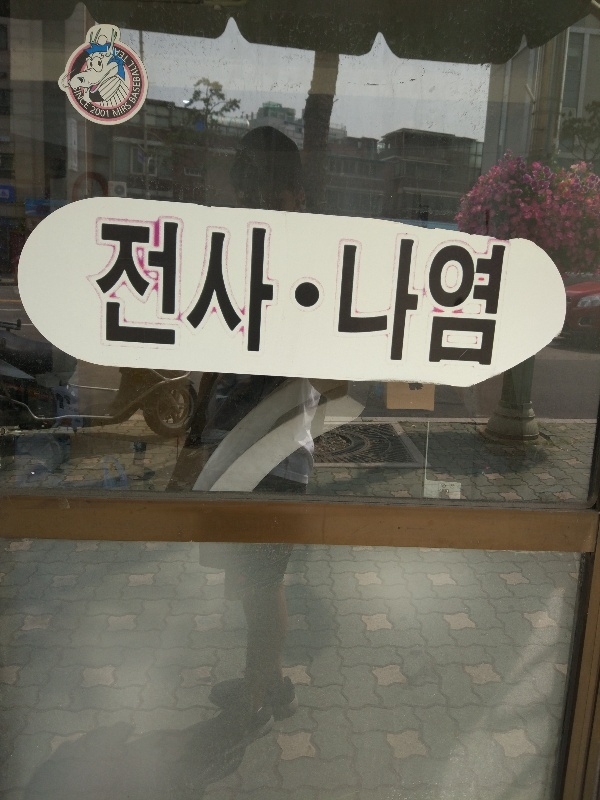text: (97, 208, 112, 385), (113, 208, 128, 385), (129, 208, 144, 385), (145, 208, 160, 385), (161, 208, 176, 385), (177, 208, 192, 385), (193, 208, 208, 385), (209, 208, 224, 385), (225, 208, 240, 385), (241, 208, 256, 385), (257, 208, 272, 385), (337, 226, 352, 388), (353, 226, 368, 388), (369, 226, 384, 388), (385, 226, 400, 388), (401, 226, 416, 388), (417, 226, 432, 388), (433, 226, 448, 388), (449, 226, 464, 388), (465, 226, 480, 388), (481, 226, 496, 388), (497, 226, 512, 388), (88, 208, 96, 385), (513, 226, 519, 388), (129, 56, 143, 110), (273, 208, 277, 385), (332, 226, 336, 388), (81, 82, 96, 113), (113, 44, 128, 69), (113, 100, 128, 120), (97, 104, 110, 121), (107, 44, 112, 69), (129, 100, 133, 120), (129, 44, 132, 69), (92, 104, 96, 121), (127, 56, 128, 110)
